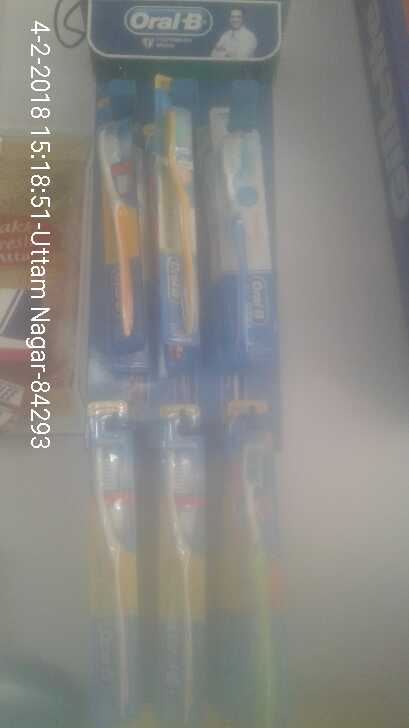oralb: (153, 91, 215, 329), (211, 107, 270, 350), (93, 106, 146, 354)
